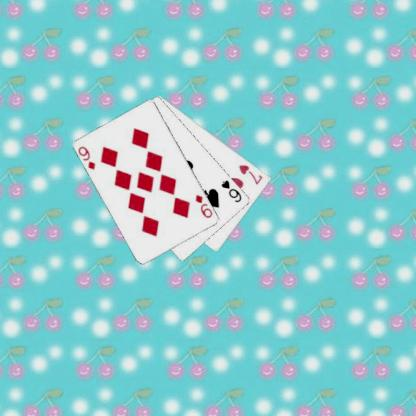6S: (219, 178, 243, 204)
7H: (236, 162, 264, 186)
9D: (192, 192, 214, 219), (76, 144, 96, 171)
